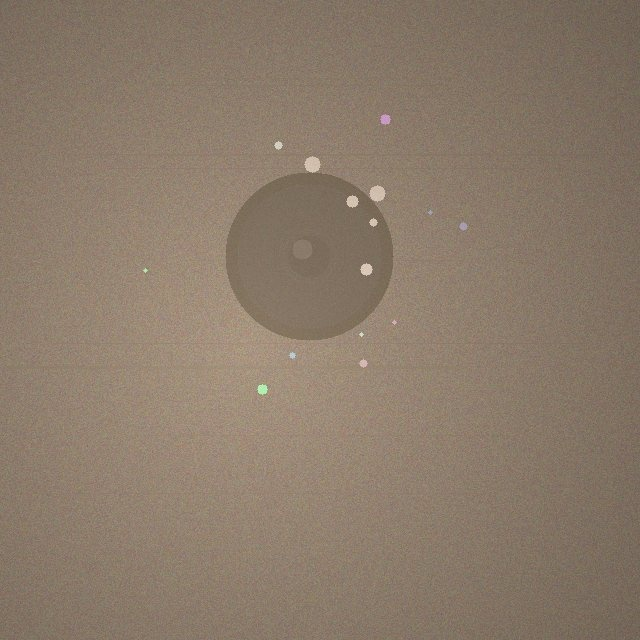overburn: (225, 172, 393, 340)
